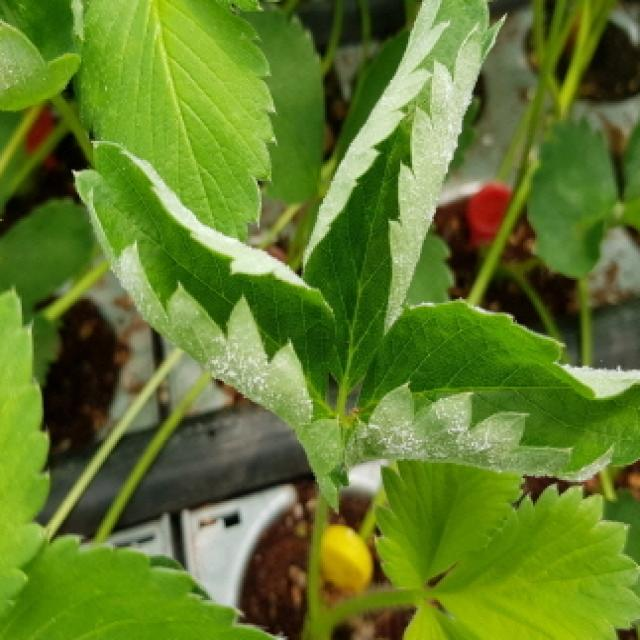Powdery Mildew Leaf: (72, 139, 344, 518), (299, 0, 509, 458), (342, 296, 640, 483)
